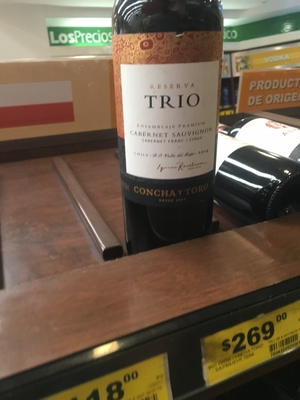trio cabernet sauvignon: (106, 5, 229, 259)
